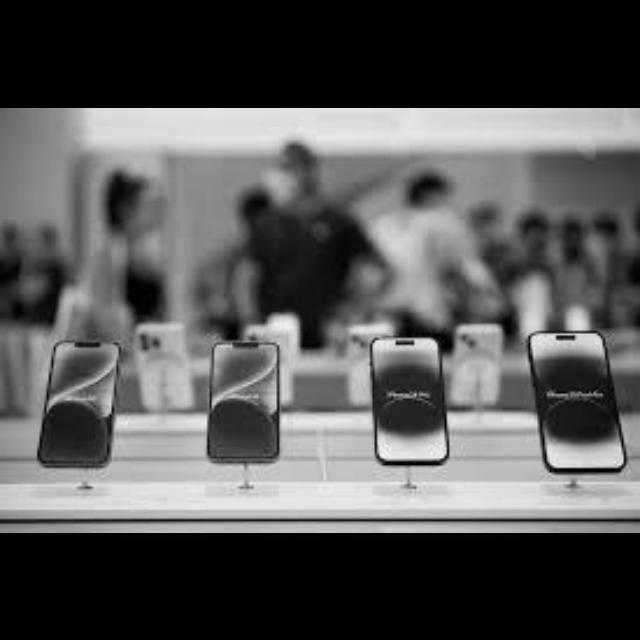fake: (534, 326, 624, 474), (32, 336, 118, 485), (369, 328, 450, 468), (206, 340, 284, 466), (126, 304, 202, 428), (448, 316, 504, 422)
